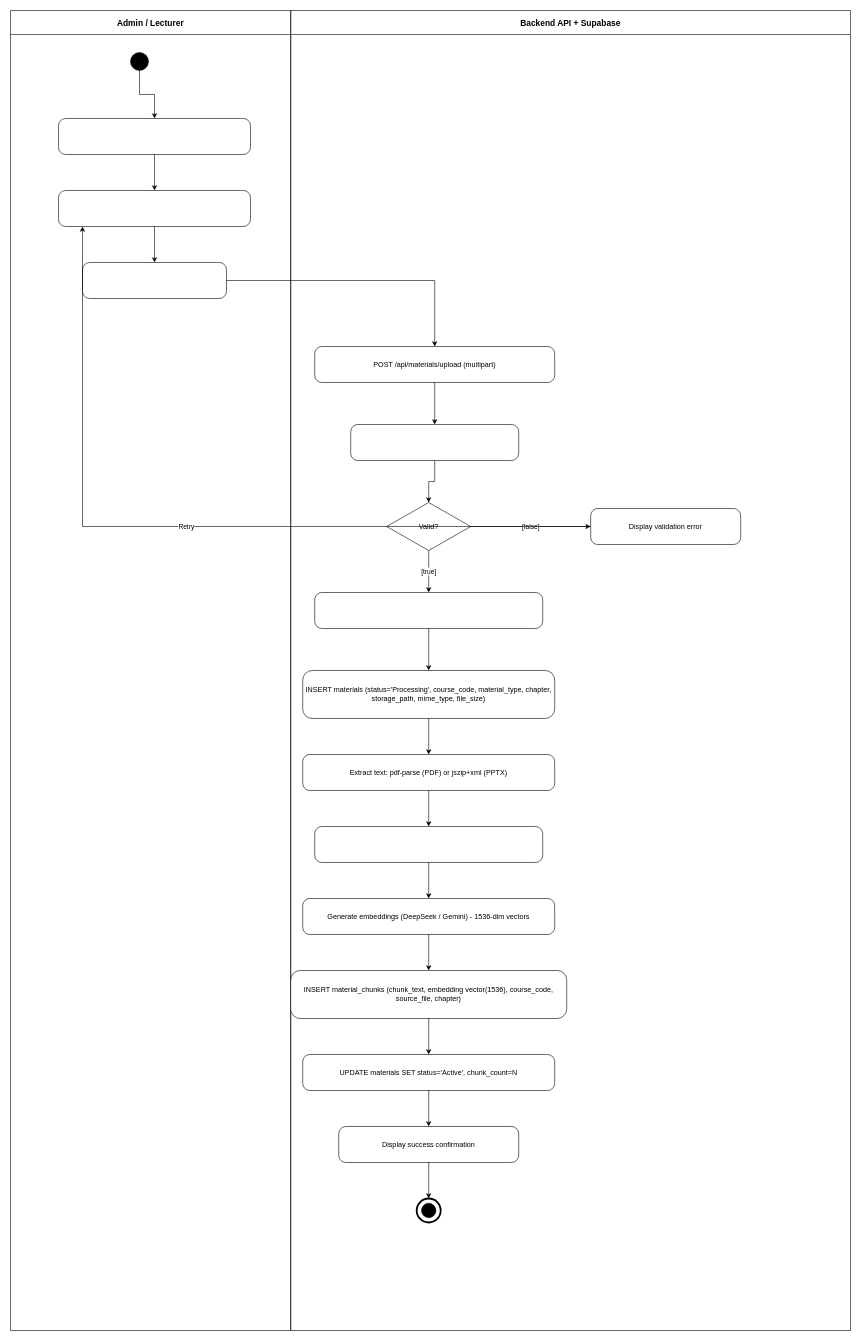
Some shapes in this 861 by 1341 pixel diagram are drawn without their labels. The shapes that lost their labels are listed below. From the top down, each one's centre as x and y in pixels, then its label:
At (x=154, y=136): "Enter or update course information".
At (x=154, y=208): "Select lecture slides (PDF or PPTX)".
At (x=154, y=280): "Click Save/Upload".
At (x=434, y=442): "Validate file type (PDF or PPTX)".
At (x=428, y=610): "Upload to Supabase Storage (bucket course-materials)".
At (x=428, y=844): "Chunk text (langchain/textsplitters)".
